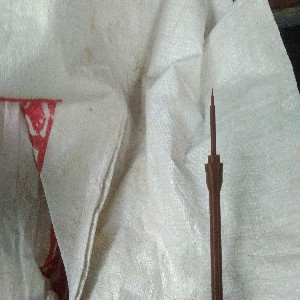solder: (204, 87, 224, 300)
